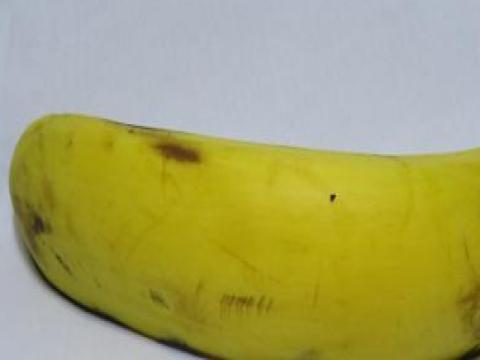freshripe: (2, 84, 479, 359)
